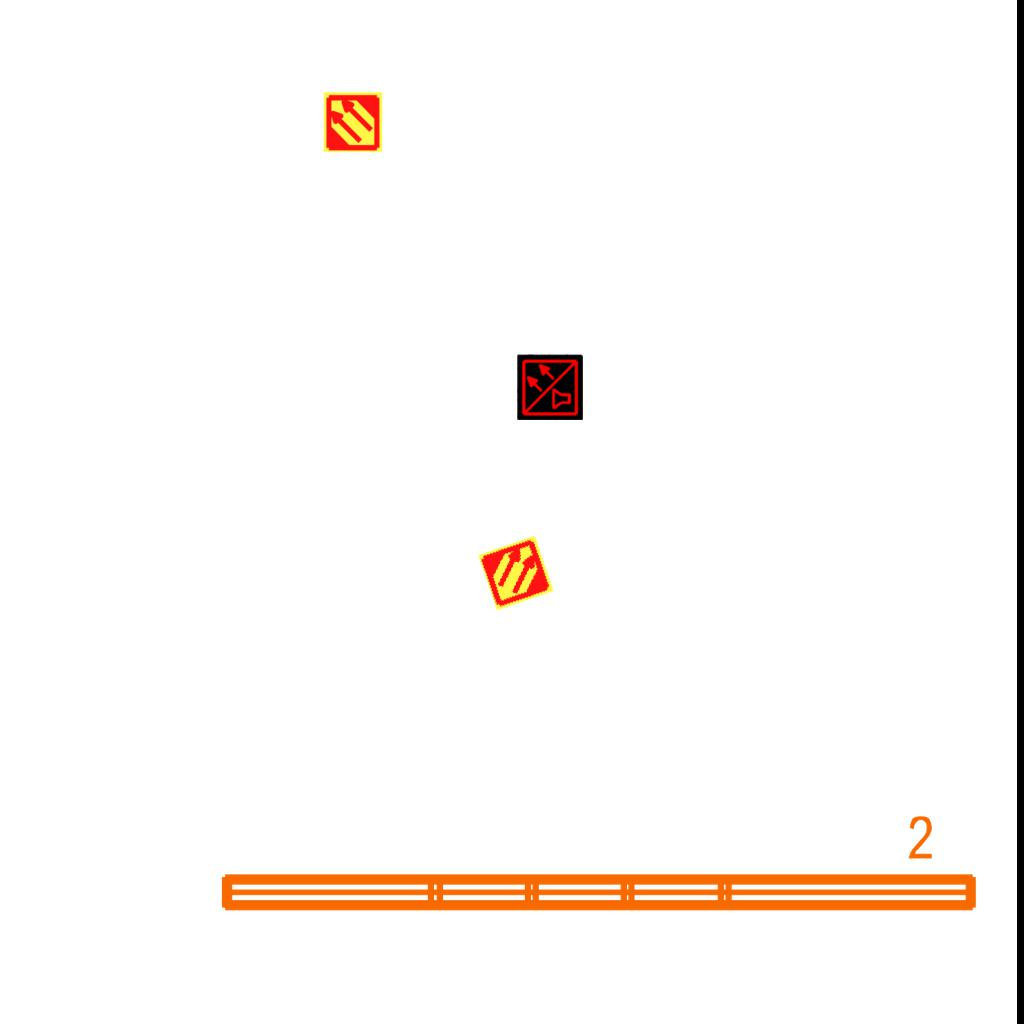ASR_Ansaugrauchmelder: (476, 533, 556, 613), (322, 91, 384, 153)
Ambulanz_Pendelleuchte_LED: (211, 811, 985, 923)
OKW_Multisensormelder_(Kombination_optischer_Rauch-Kahlenmonoxid_Waerme-Melder): (517, 354, 583, 420)
